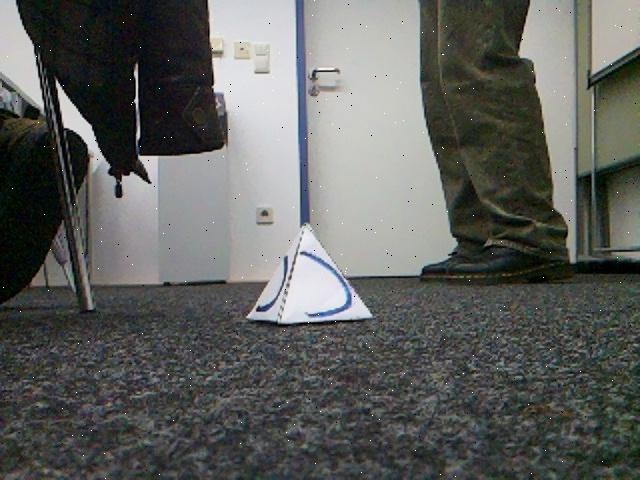C: (247, 224, 366, 328)
